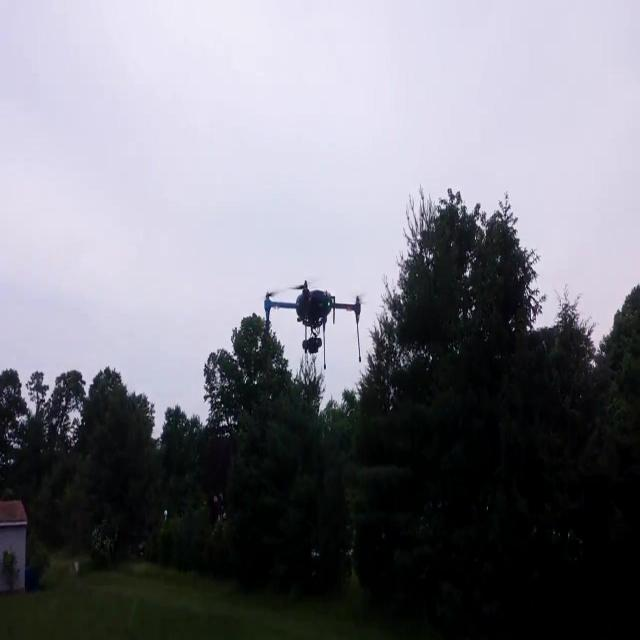drone: (260, 277, 370, 369)
